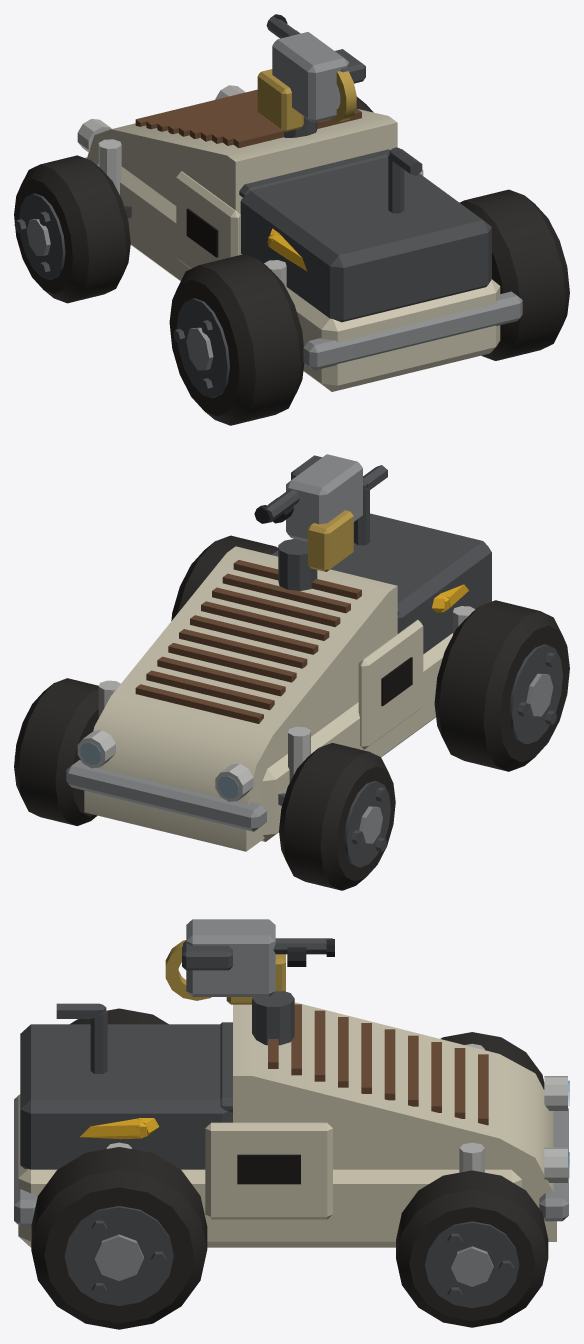
File: car.glb
The picture shows the model from 3 angles, top to bottom: view 1: azimuth 30°, elevation 25°; view 2: azimuth 150°, elevation 25°; view 3: azimuth 270°, elevation 25°; orthographic projection. The views are drawn at different scales.
Parts seen in each view (by area): view 1: body, anim_wheel_rear, anim_wheel_front, anim_wheel_rear.001, anim_turret_head; view 2: body, anim_wheel_rear, anim_wheel_front, anim_turret_head, anim_wheel_front.001, anim_wheel_rear.001; view 3: body, anim_wheel_rear.001, anim_wheel_front.001, anim_turret_head, anim_wheel_front, anim_wheel_rear.
Boxes of the visible parts, <box> form: body: <box>77,85,522,391</box>; anim_wheel_rear: <box>169,254,304,425</box>; anim_wheel_front: <box>14,155,130,303</box>; anim_wheel_rear.001: <box>459,189,569,360</box>; anim_turret_head: <box>257,14,365,137</box>; body: <box>66,465,491,851</box>; anim_wheel_rear: <box>434,600,569,771</box>; anim_wheel_front: <box>279,743,395,890</box>; anim_turret_head: <box>254,454,362,590</box>; anim_wheel_front.001: <box>14,678,98,825</box>; anim_wheel_rear.001: <box>171,535,278,620</box>; body: <box>14,1002,569,1247</box>; anim_wheel_rear.001: <box>31,1147,207,1329</box>; anim_wheel_front.001: <box>396,1170,548,1327</box>; anim_turret_head: <box>165,919,334,1045</box>; anim_wheel_front: <box>440,1032,544,1089</box>; anim_wheel_rear: <box>70,1008,168,1024</box>.
Bounding box in the file's own units: 2.03 × 1.65 × 2.61.
